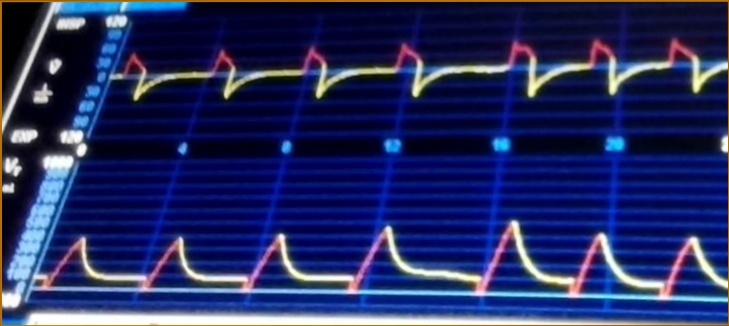Flow: (122, 26, 729, 134)
Leakage Volume: (54, 201, 729, 308)
